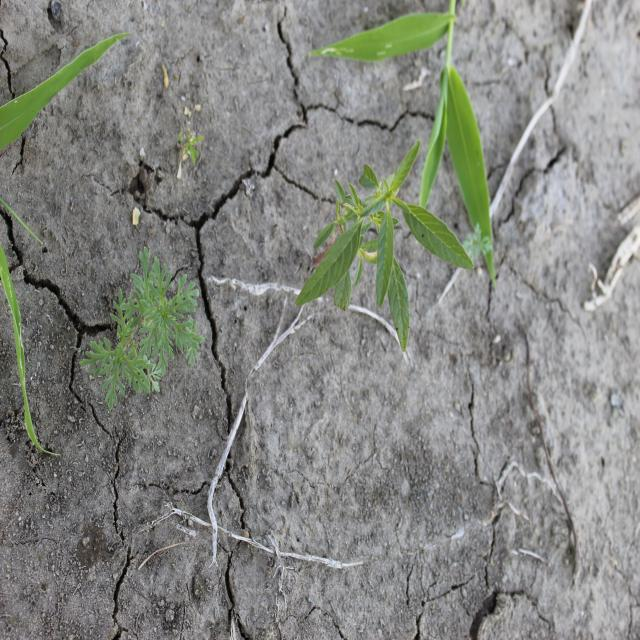Ragweed: (78, 245, 206, 414)
Waterhemp: (294, 138, 475, 354)
